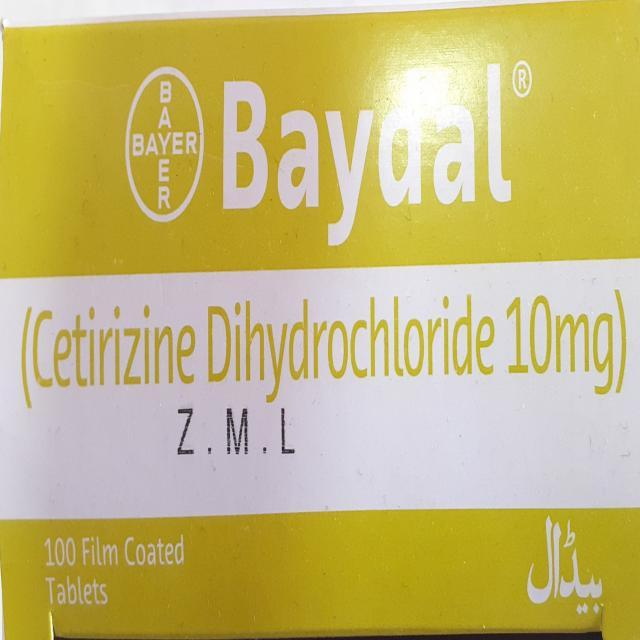drug-name: (214, 56, 513, 250)
